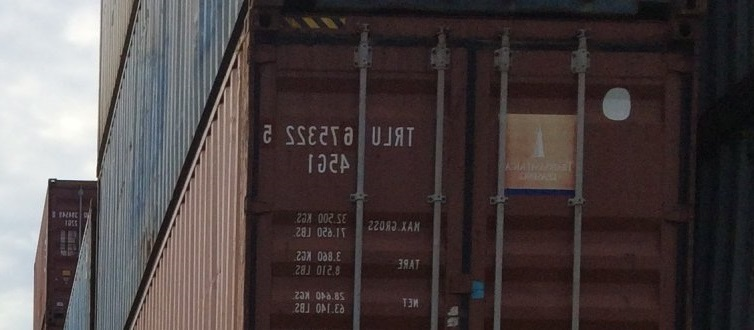container_door: (245, 12, 698, 330)
